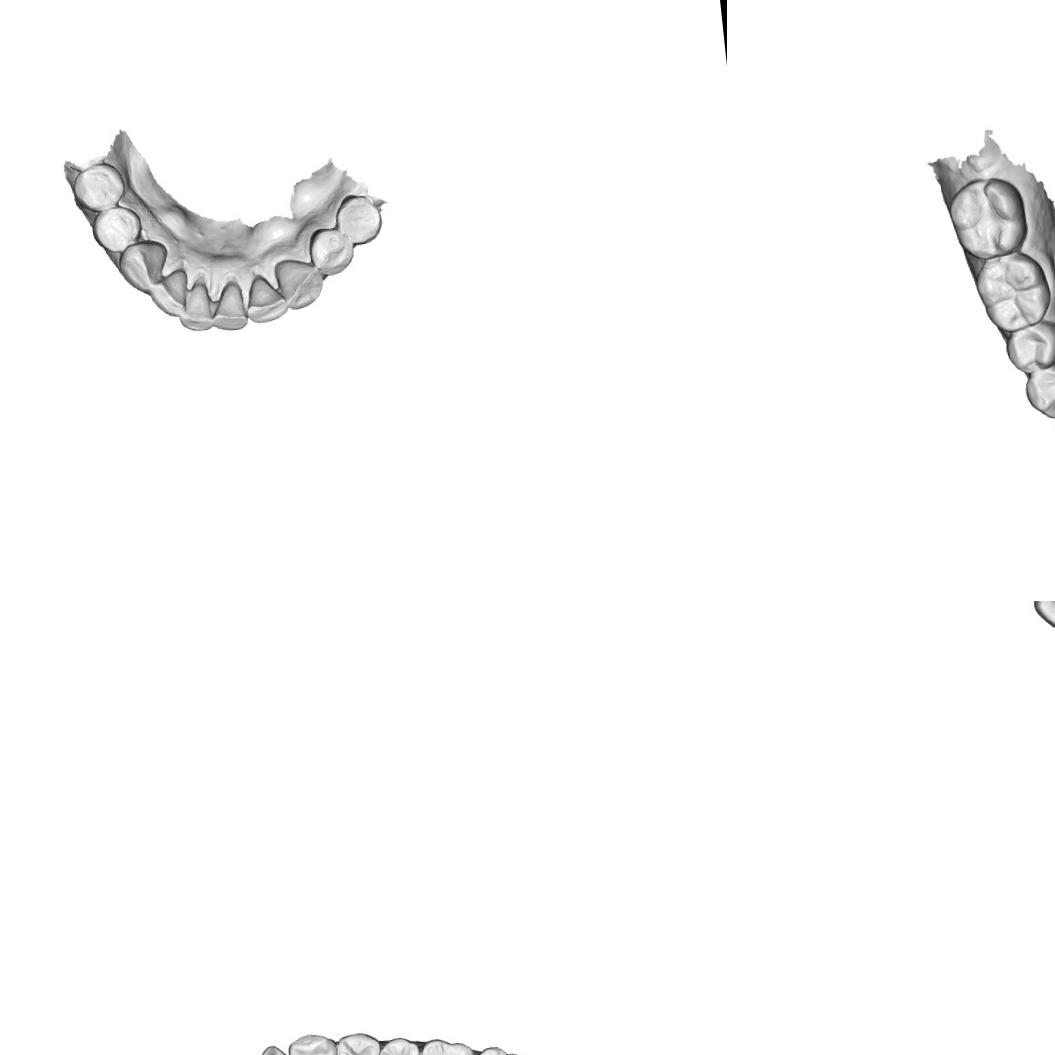canine: (116, 237, 172, 296), (272, 256, 327, 312), (285, 1030, 341, 1055)
incisor: (241, 271, 290, 325), (146, 268, 192, 320), (207, 278, 249, 334), (174, 278, 215, 334), (1027, 601, 1055, 636), (249, 1042, 298, 1055)
molar: (944, 171, 1032, 264), (970, 249, 1055, 338), (414, 1034, 480, 1055)
premolar: (1001, 318, 1055, 378), (69, 160, 128, 214), (88, 204, 145, 256), (333, 191, 384, 247), (306, 224, 356, 278), (1021, 360, 1055, 422), (333, 1029, 384, 1055), (374, 1033, 423, 1055)
